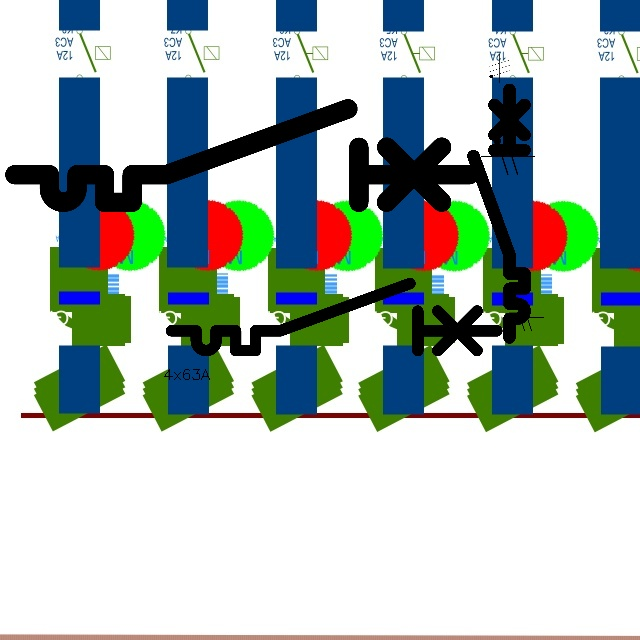interruptor_termomagnetico: (3, 97, 481, 214), (163, 275, 505, 359), (467, 83, 531, 343)
